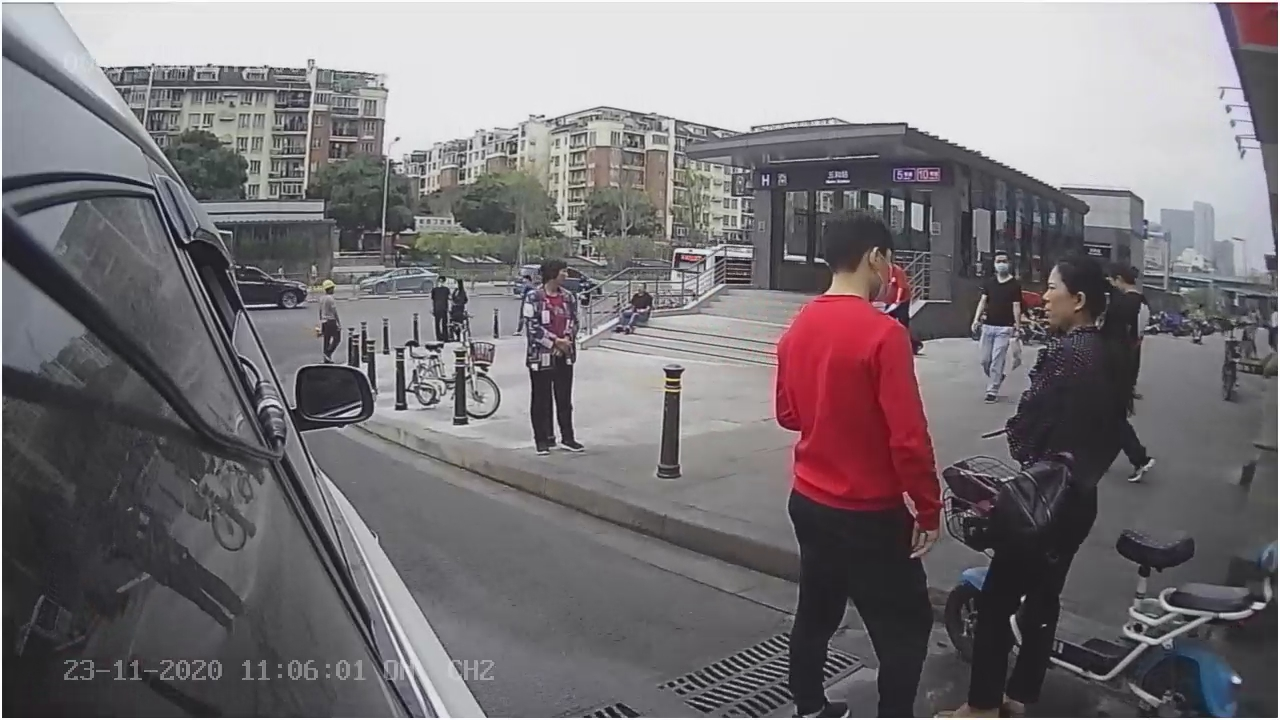person: (764, 204, 948, 701)
